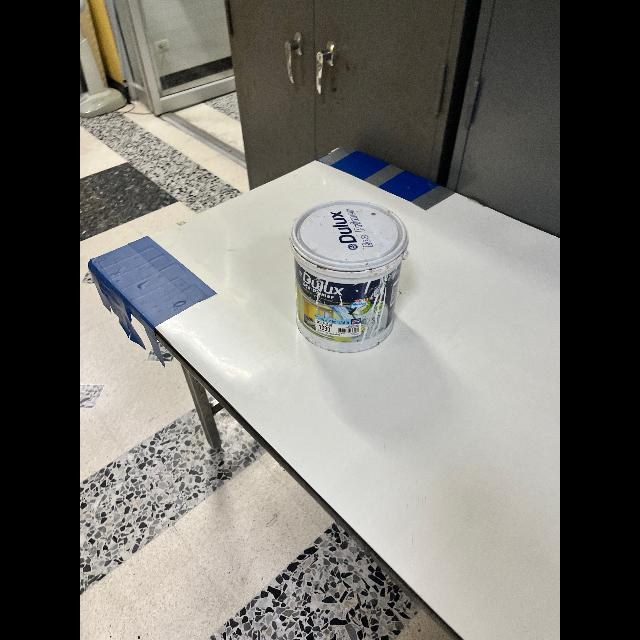paint_bucket: (292, 198, 410, 352)
